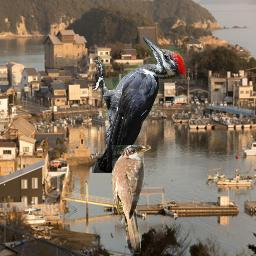Cuckoo: (112, 145, 151, 254)
Woodpecker: (92, 36, 186, 173)
